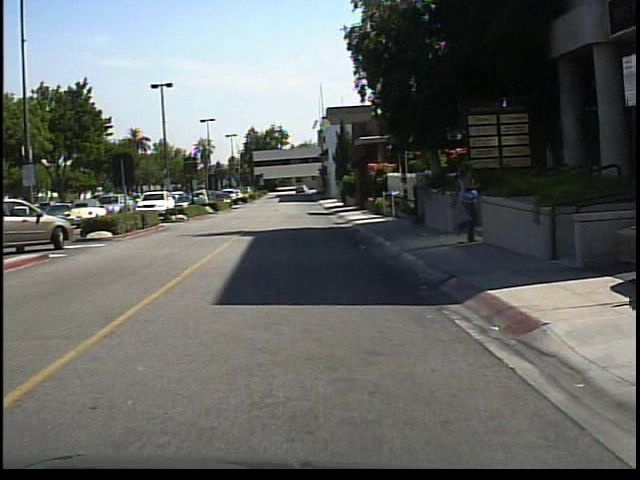person: (450, 150, 483, 251)
